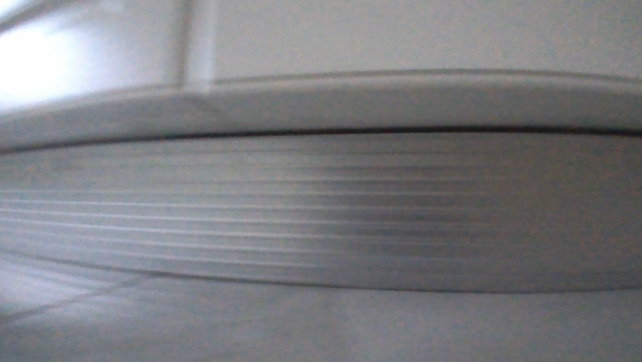cupboard1: (0, 0, 641, 299)
